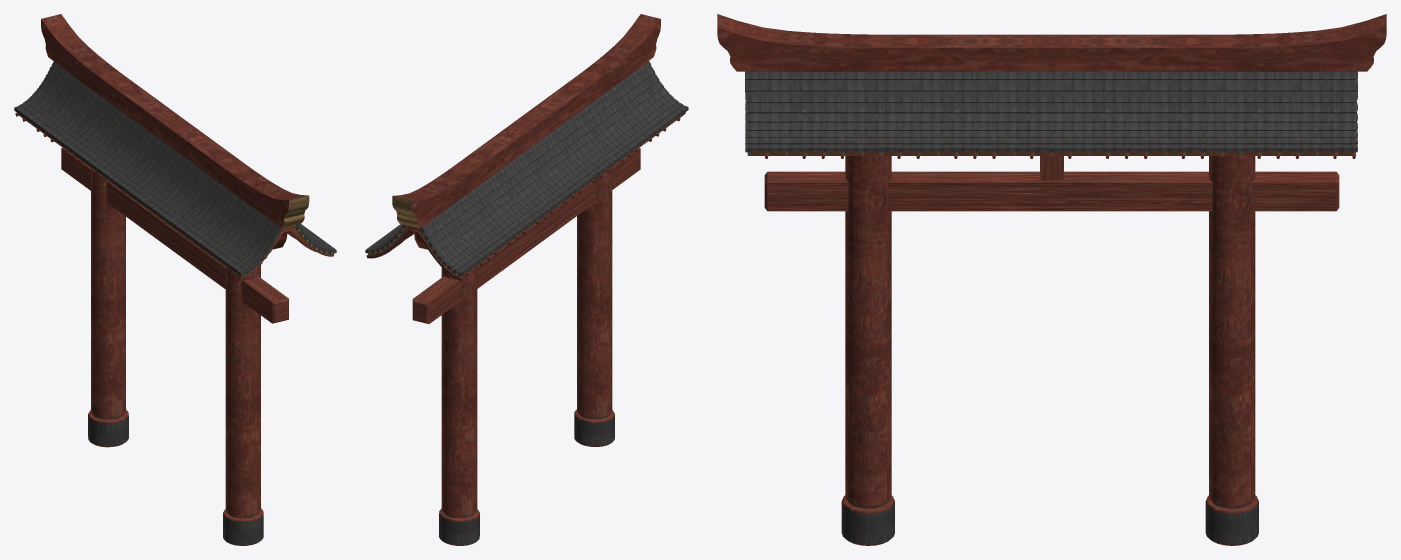
File: gate.fbx
3 renders of one model, left to right at view 1: azimuth 30°, elevation 25°; view 2: azimuth 150°, elevation 25°; view 3: azimuth 270°, elevation 25°, orthographic. The views are drawn at different scales.
Parts seen in each view (by area): view 1: pCube115; view 2: pCube115; view 3: pCube115.
Boxes of the visible parts, x1,y1,x2,y2 form: pCube115: (14,14,336,545); pCube115: (365,14,688,545); pCube115: (717,14,1386,545).
Size of the model in its own units: 4.26 by 16.2 by 19.11.
